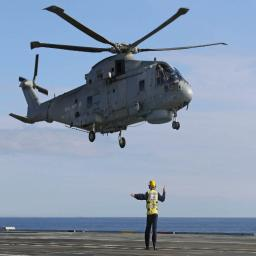helicopter: (4, 2, 232, 150)
